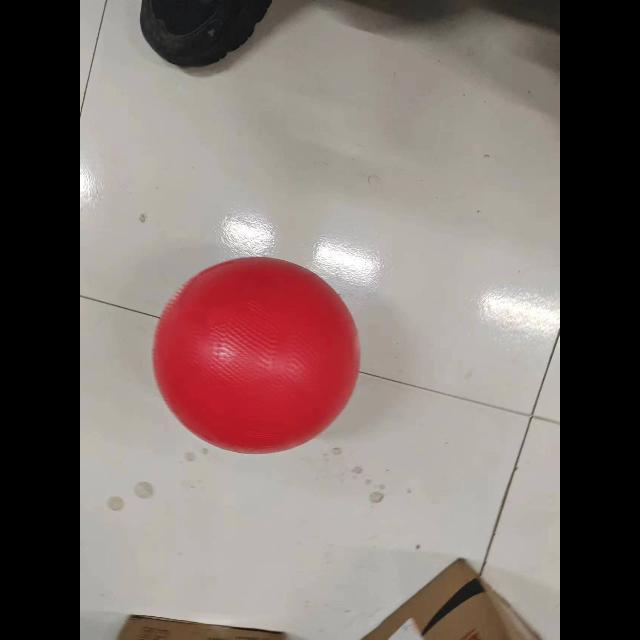R: (144, 253, 372, 457)
